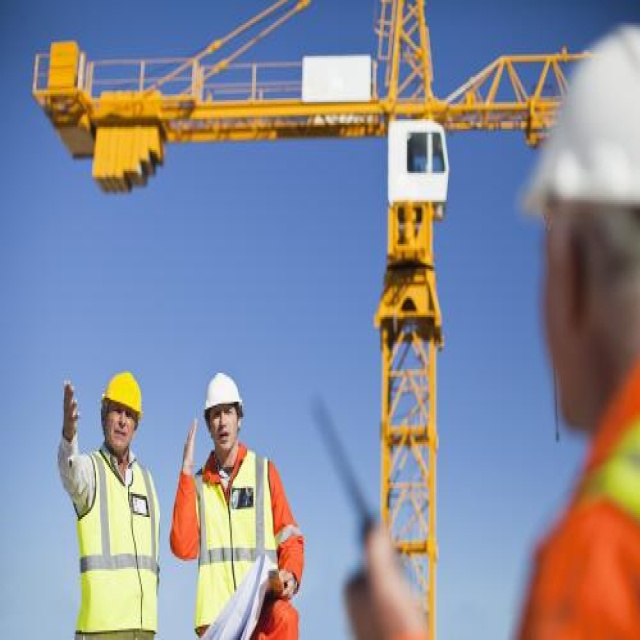Helmet: (189, 362, 258, 472), (89, 364, 153, 470)
Reflective vest: (70, 447, 167, 638), (187, 451, 288, 630)
